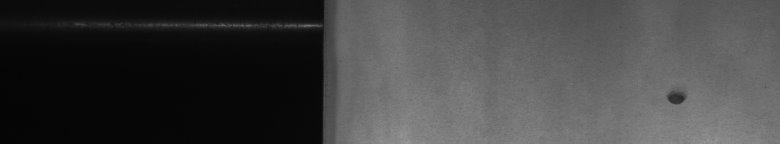fi: (660, 80, 692, 112)
